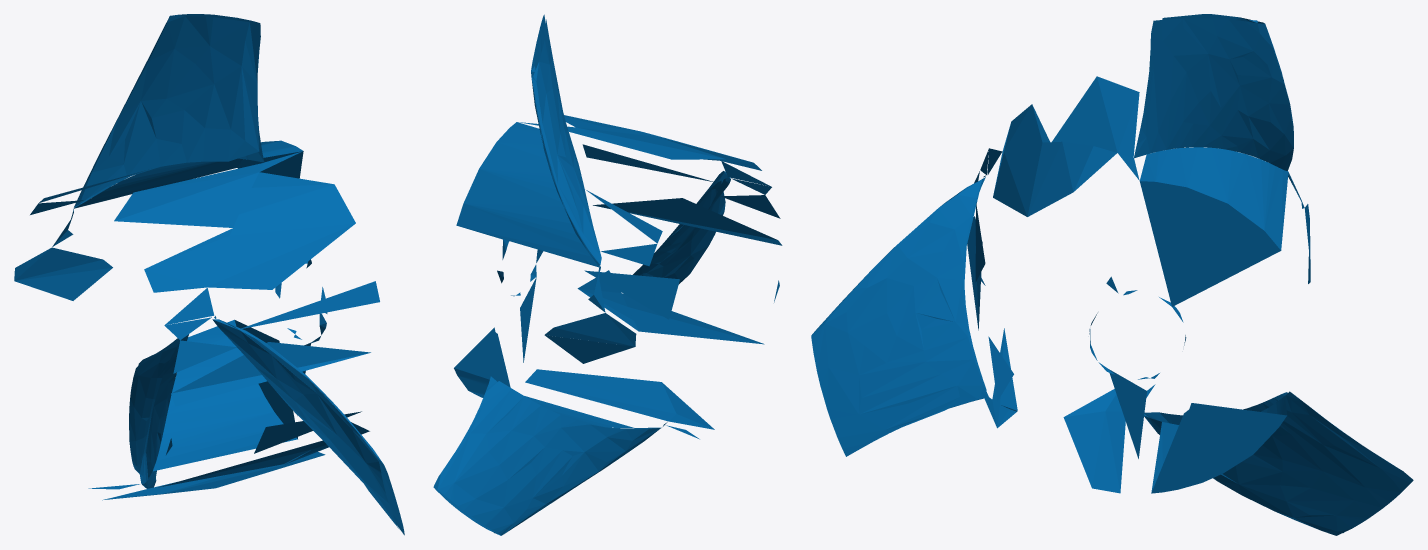
File: ccw_lod.obj
3 renders of one model, left to right at view 1: azimuth 30°, elevation 25°; view 2: azimuth 150°, elevation 25°; view 3: azimuth 270°, elevation 25°, orthographic. The views are drawn at different scales.
Bounding box in the file's own units: 0.03 × 0.0684 × 0.0698.
